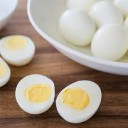begg: (61, 80, 101, 121), (20, 75, 56, 111), (60, 10, 96, 45), (2, 36, 36, 65)
